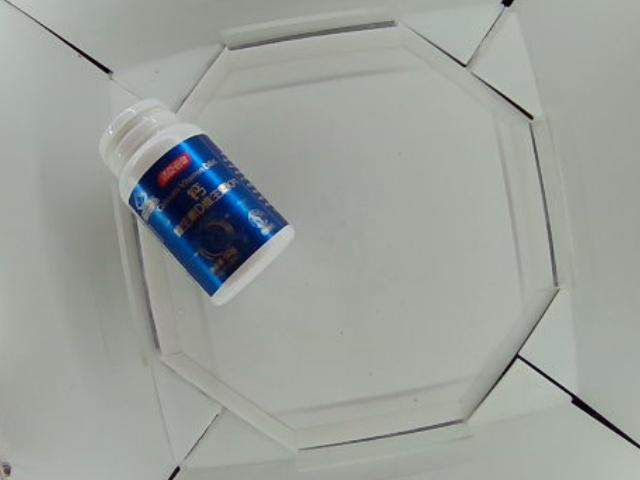Bottle: (98, 100, 293, 305)
